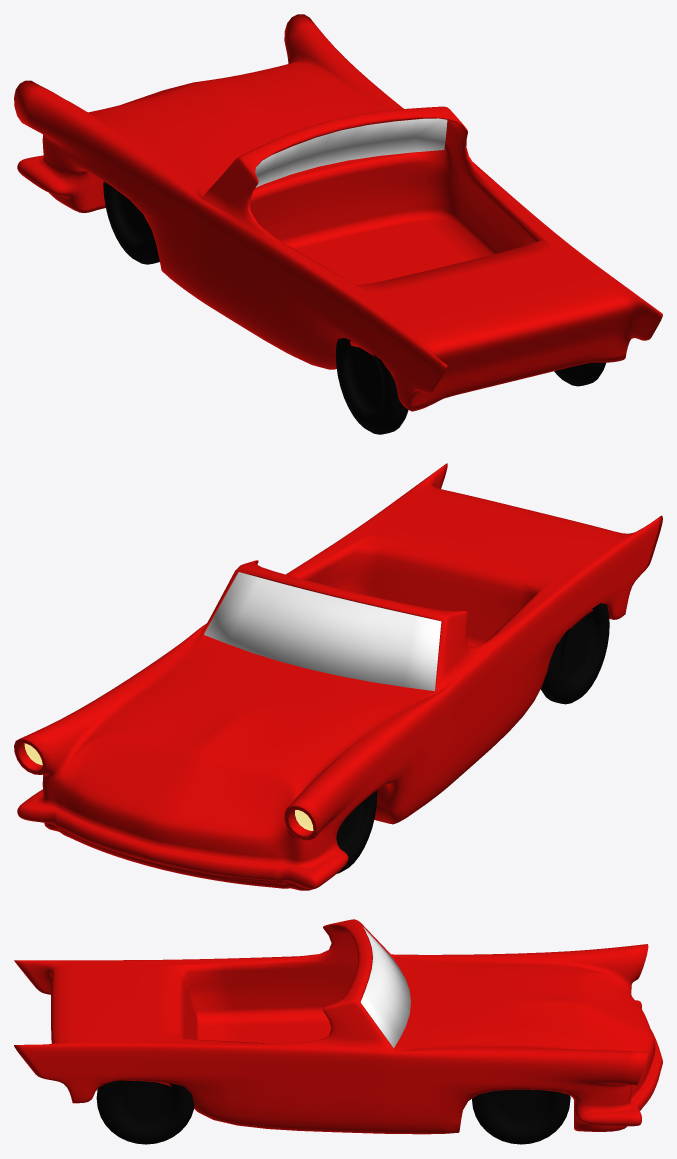
The model's file is car.glb.
3 views of the same model, one above another, from view 1: azimuth 30°, elevation 25°; view 2: azimuth 150°, elevation 25°; view 3: azimuth 270°, elevation 25° (orthographic). The views are drawn at different scales.
Parts seen in each view (by area): view 1: Car, Cylinder, Cube; view 2: Car, Cube, Cylinder; view 3: Car, Cylinder, Cube.
Part boxes in pixels (x1=…): Car: x1=14, y1=14, x2=662, y2=411; Cylinder: x1=103, y1=181, x2=605, y2=434; Cube: x1=255, y1=118, x2=447, y2=187; Car: x1=14, y1=463, x2=662, y2=890; Cube: x1=204, y1=572, x2=441, y2=691; Cylinder: x1=336, y1=603, x2=609, y2=873; Car: x1=14, y1=919, x2=662, y2=1134; Cylinder: x1=96, y1=1080, x2=570, y2=1144; Cube: x1=360, y1=927, x2=410, y2=1047.
Bounding box in the file's own units: 5.55 × 3.25 × 12.8.
